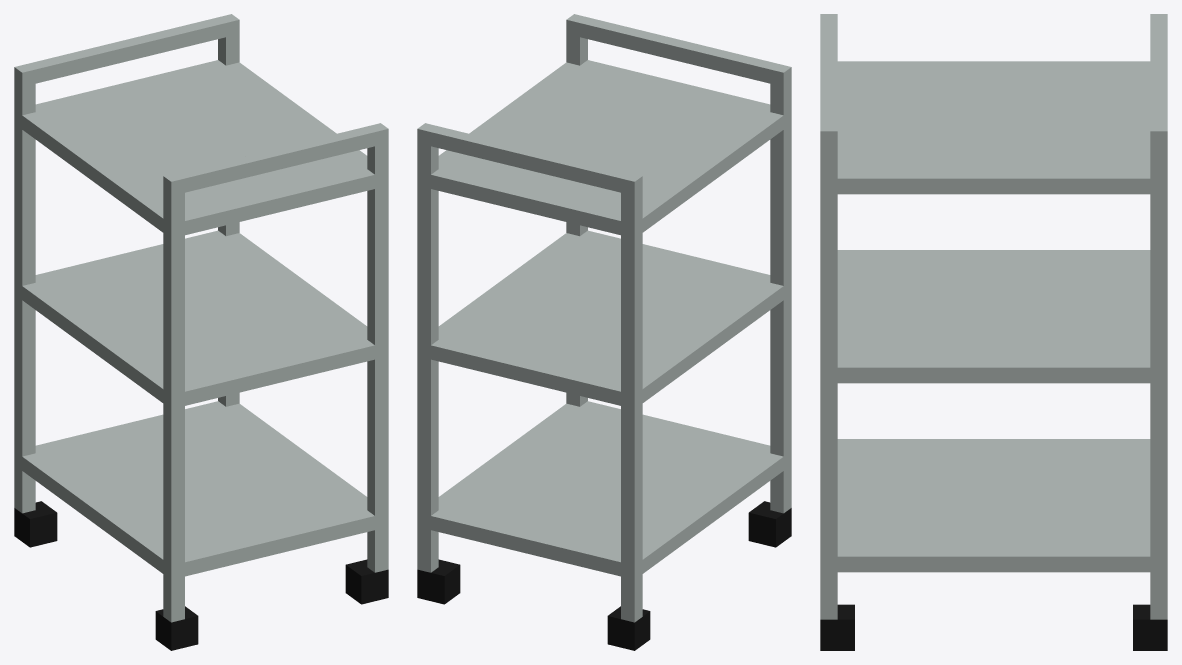
The model's file is table_mobile_02.glb.
3 views of the same model, side by side, from view 1: azimuth 30°, elevation 25°; view 2: azimuth 150°, elevation 25°; view 3: azimuth 270°, elevation 25° (orthographic). The views are drawn at different scales.
Parts seen in each view (by area): view 1: Untitled; view 2: Untitled; view 3: Untitled.
Boxes of the visible parts, <box> form: Untitled: <box>14,14,388,650</box>; Untitled: <box>417,14,791,650</box>; Untitled: <box>820,14,1167,650</box>.
Size of the model in its own units: 0.48 by 0.99 by 0.6.
1 material, 1 textured.
